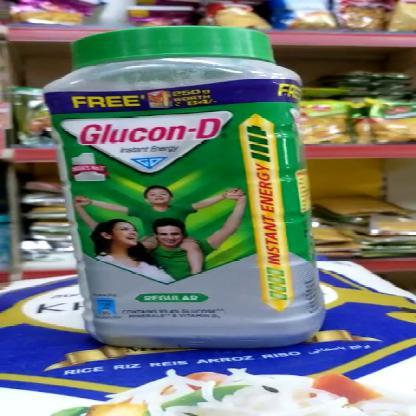Glucon D Regular 2-KG: (50, 21, 326, 352)
